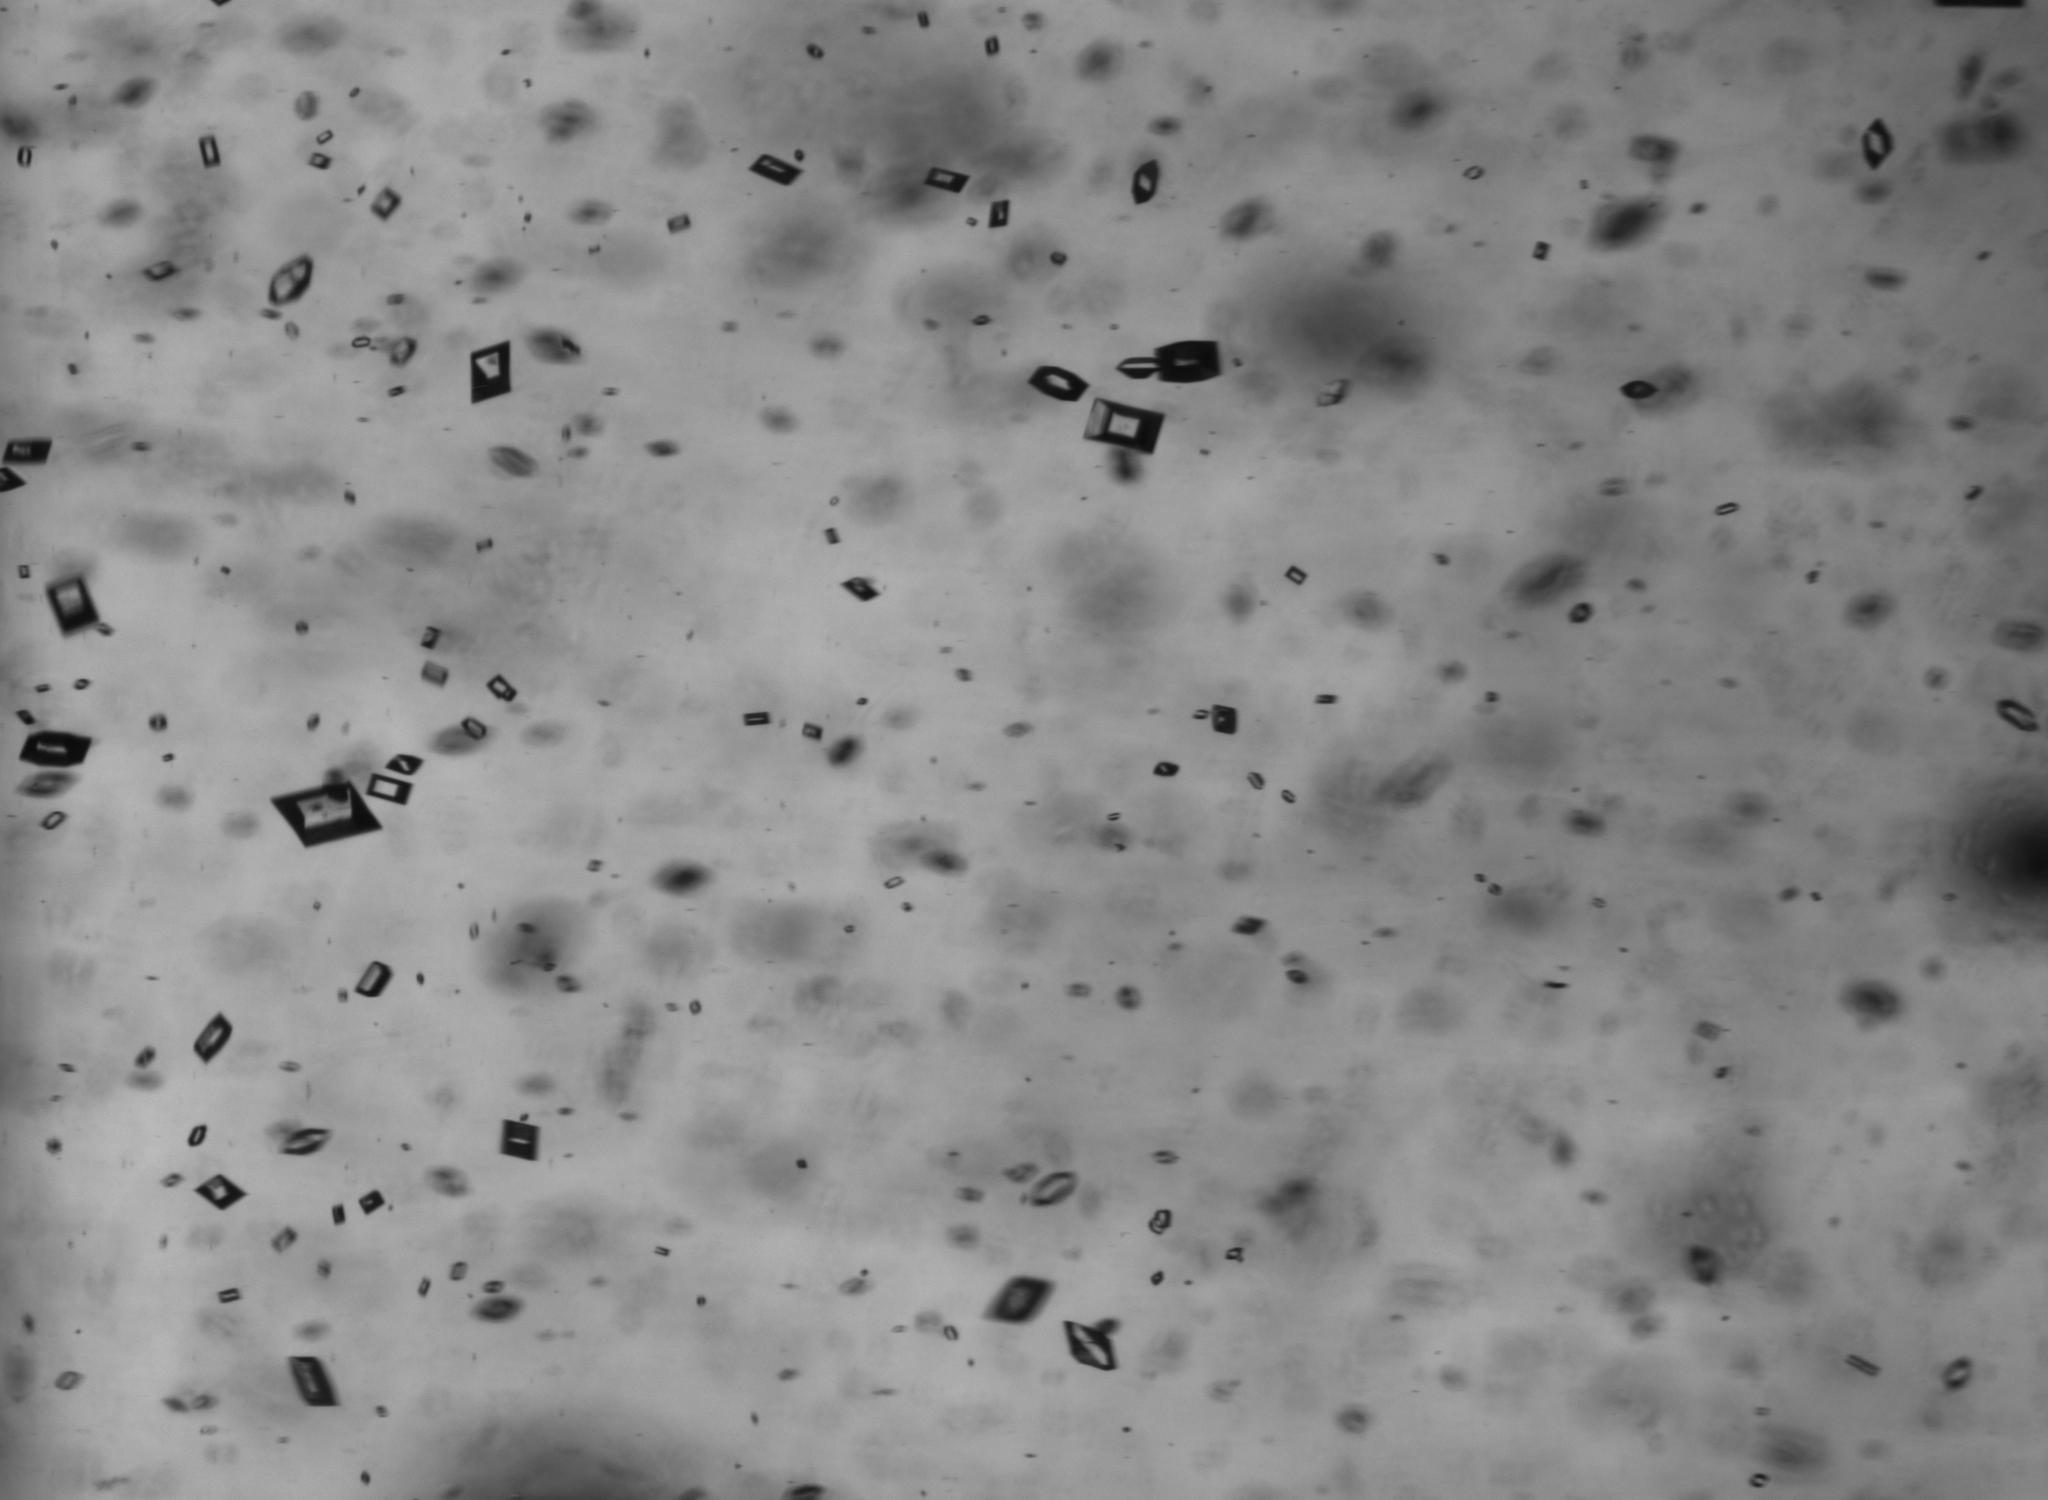crystal: (272, 776, 380, 846), (1116, 340, 1221, 383), (1084, 399, 1164, 453), (46, 574, 100, 636), (986, 1276, 1053, 1323), (1064, 1319, 1118, 1371), (286, 1355, 339, 1408), (19, 730, 91, 768), (469, 340, 512, 402), (267, 255, 313, 305), (1029, 366, 1088, 401), (1021, 1171, 1078, 1206), (192, 1013, 234, 1061), (1859, 118, 1895, 170), (499, 1118, 541, 1161), (196, 1174, 245, 1209), (749, 154, 801, 185), (353, 961, 393, 997), (1996, 698, 2038, 732), (0, 437, 51, 464), (1131, 159, 1161, 204), (1938, 1355, 1975, 1392), (366, 775, 412, 803), (281, 1128, 329, 1155), (924, 167, 968, 192), (370, 186, 402, 220), (841, 576, 879, 601), (388, 337, 418, 367), (487, 674, 517, 703), (1620, 380, 1658, 402), (197, 134, 221, 169), (420, 660, 450, 687), (142, 259, 178, 282), (386, 754, 421, 776), (1846, 1354, 1881, 1376), (1212, 705, 1237, 733), (986, 199, 1011, 227), (1148, 1207, 1173, 1234), (270, 1226, 297, 1252), (358, 1190, 385, 1214), (460, 717, 487, 741), (54, 1371, 83, 1390), (666, 213, 692, 234), (40, 811, 67, 830), (186, 1125, 208, 1147), (420, 627, 442, 649), (1285, 565, 1309, 585), (741, 711, 771, 727), (1153, 760, 1180, 776), (447, 1260, 467, 1280), (1223, 1244, 1245, 1263), (218, 1287, 242, 1304), (135, 1047, 156, 1066), (1531, 240, 1550, 261), (307, 153, 331, 169), (1247, 771, 1266, 791), (148, 714, 167, 732), (801, 724, 822, 740), (16, 709, 37, 725), (984, 35, 1000, 56), (805, 43, 825, 59), (331, 1204, 347, 1223), (315, 129, 334, 145), (884, 875, 905, 889), (17, 146, 32, 167), (1749, 1473, 1770, 1487), (1571, 603, 1588, 619), (824, 528, 840, 544), (941, 1325, 959, 1339), (1315, 694, 1337, 705), (418, 1277, 431, 1296), (350, 336, 369, 348), (1282, 789, 1296, 803), (73, 678, 91, 689), (17, 565, 30, 579), (917, 11, 929, 27), (388, 387, 405, 396), (1234, 919, 1247, 932), (35, 682, 51, 692)
